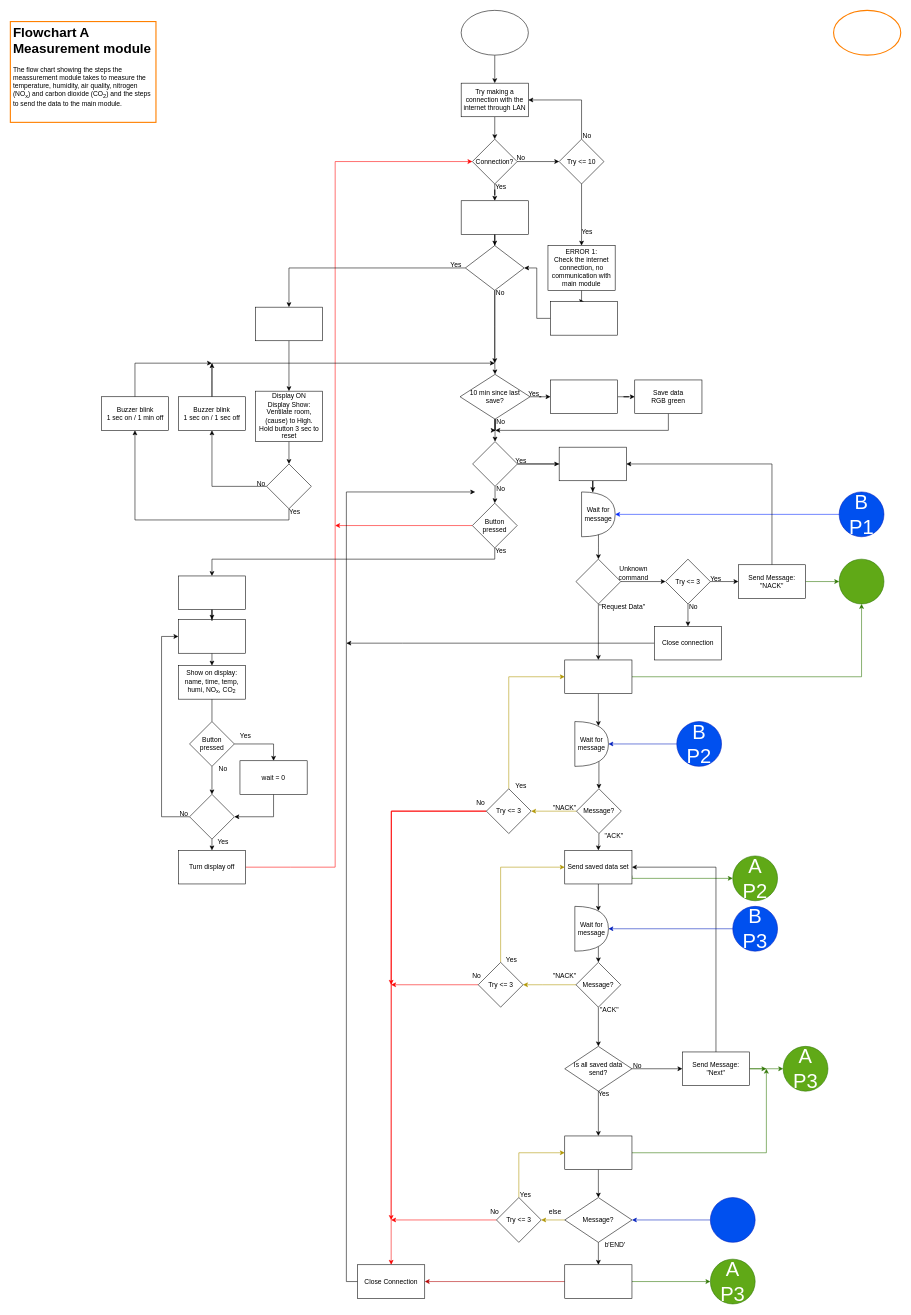
Some shapes in this 911 by 1315 pixel diagram are drawn without their labels. The shapes that lost their labels are listed below. From the top down, each one's centre as x and y in pixels, then its label:
pixel 494 32: START
pixel 867 32: Versie 1.3
pixel 494 217: Only on start-up Show on display: MAC adress IP adress
pixel 494 267: VoC / CO 2 / NO x High?
pixel 289 324: RGB blink purple
pixel 584 318: Operating in offline mode RGB blink red Try = 0
pixel 584 396: Measure data Get current time RGB blink green
pixel 494 463: is connected
pixel 592 464: RGB blink orange
pixel 288 486: buttonT >= 3 sec
pixel 212 592: Turn Display on
pixel 598 581: If message
pixel 861 581: A P1
pixel 212 636: Measure data Get current time
pixel 598 676: Send message: "Message, (number of saved data sets)"
pixel 211 816: wait == 00:00:30
pixel 598 1152: Send message: "ACK"
pixel 732 1219: B P4
pixel 598 1281: Send message: "END"
